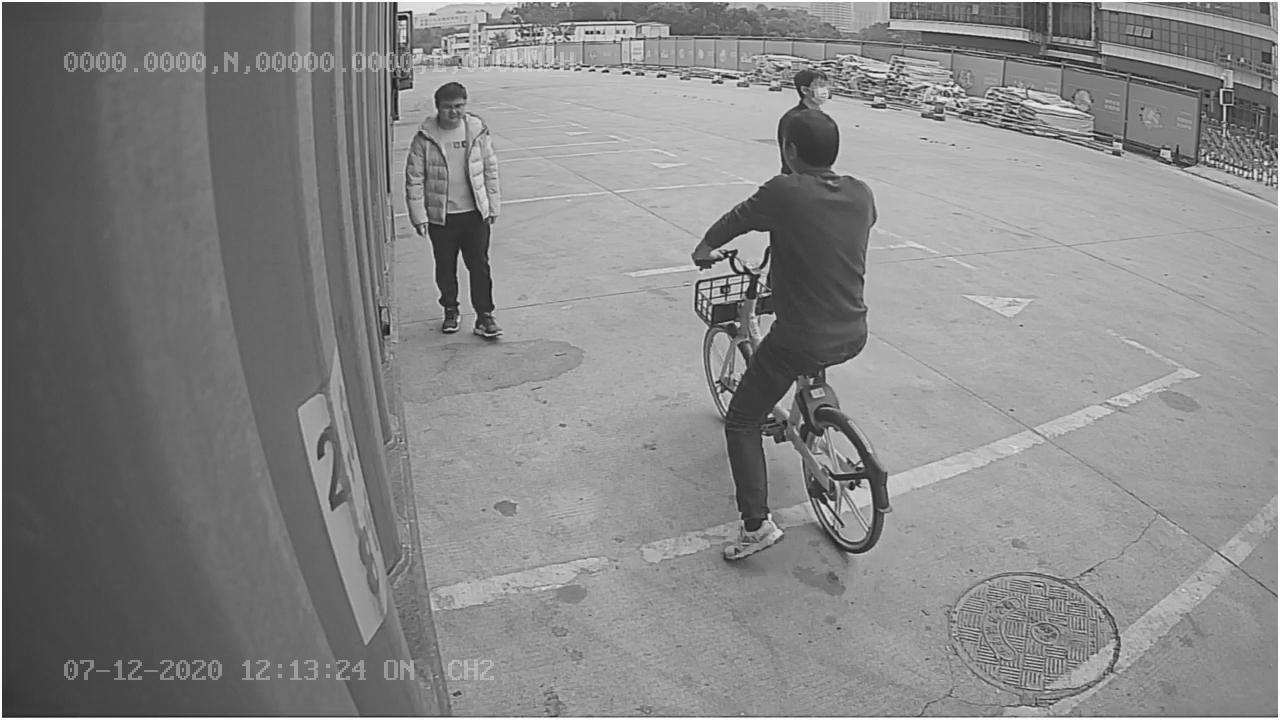person: (404, 80, 508, 338)
